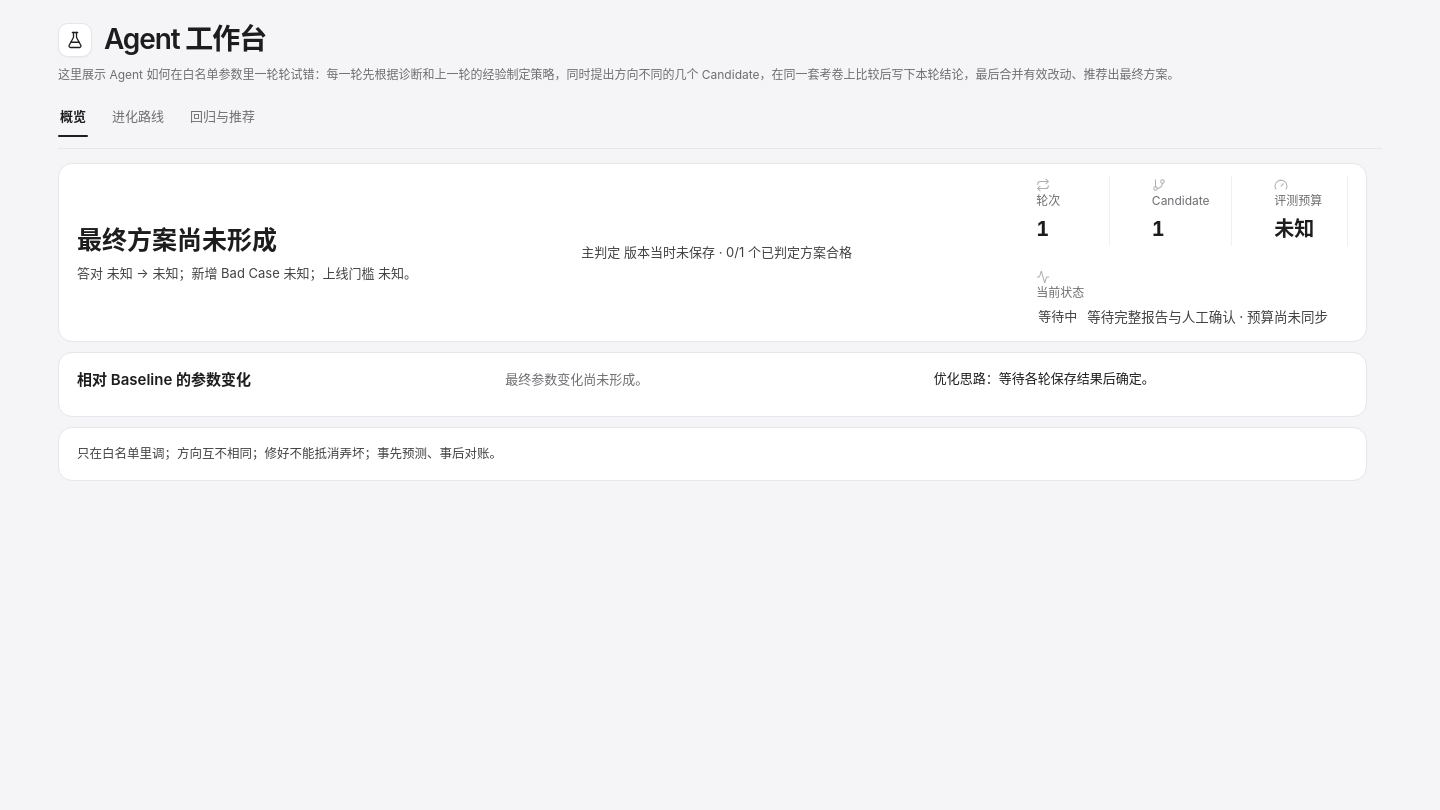
Test: shows corrected regression and frozen severity while retaining final qualification and saved audit
Later steps or results of the test are not shown.
Click the button "回归与推荐". click: coordinates (222, 116)
box: [188,96,257,136]
(page scrolled)
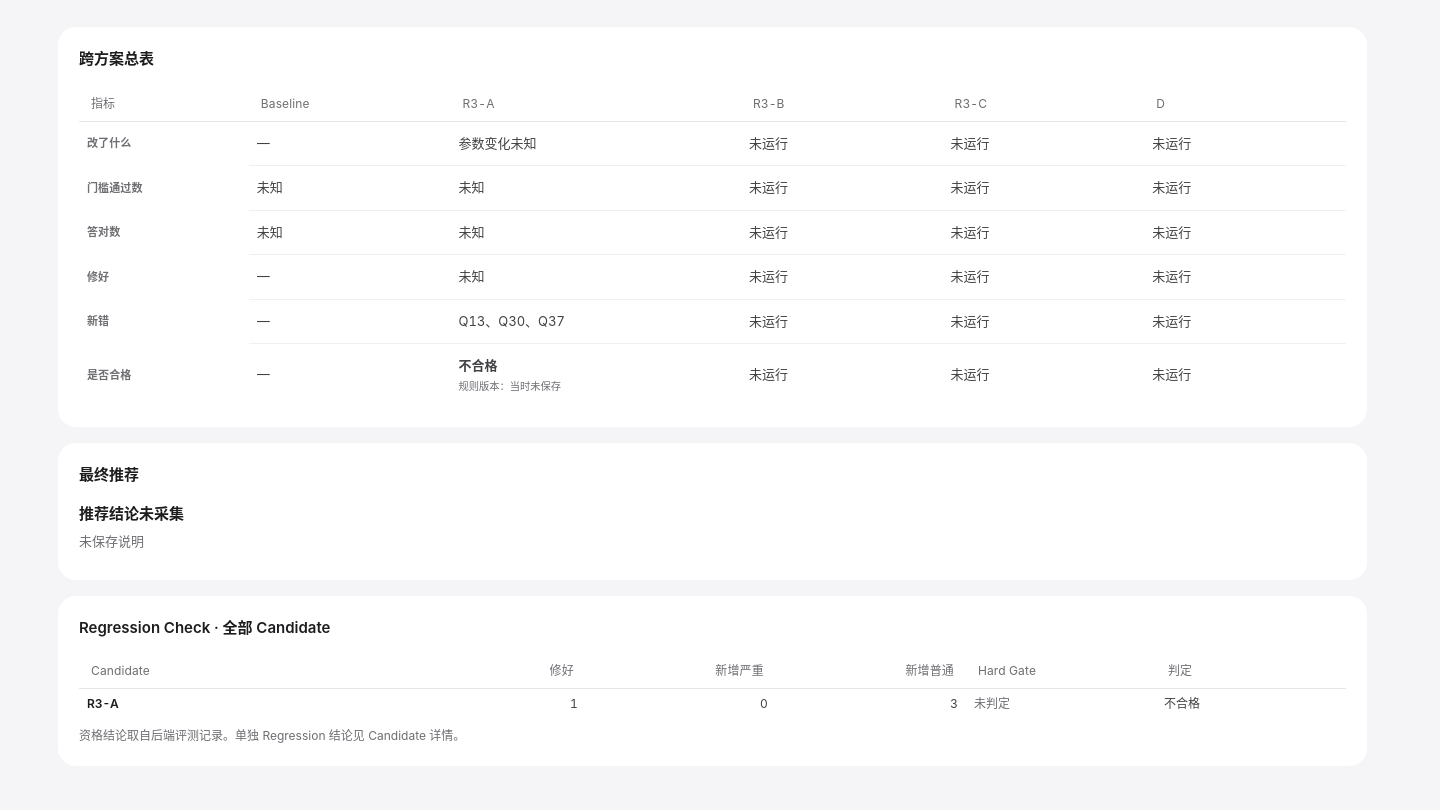
Expected: the element with class "regression-summary-table" is shown, [79,655,1346,719]
Click the button with class "regression-candidate". click: coordinates (103, 704)
box: [87,695,119,713]
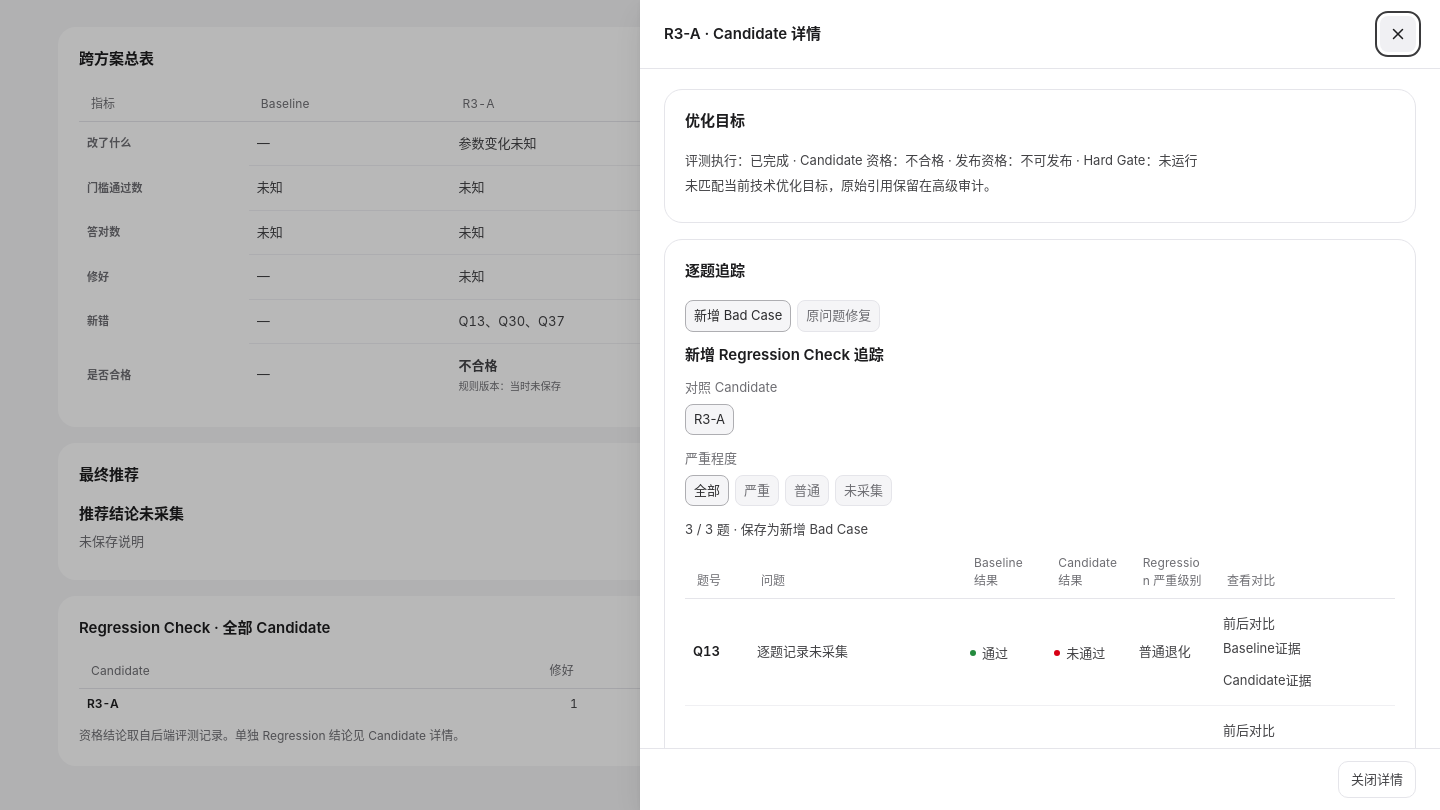
Expected: the dialog shows "逐题追踪", [685,260,745,280]
Expected: the element with class "regression-cases-table" shows "普通退化", [1139,643,1191,659]
